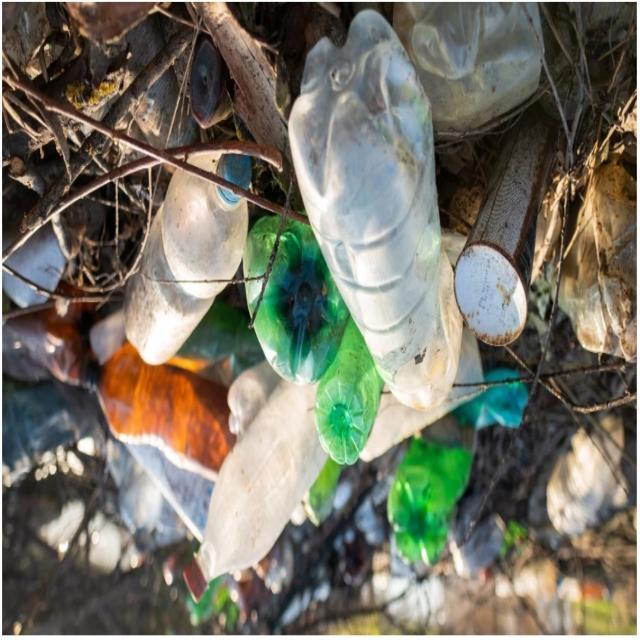Garbage: (3, 4, 636, 634)
Plastic: (190, 35, 232, 128)
Plastic_Bag: (392, 4, 541, 132), (559, 163, 636, 361), (360, 387, 481, 460), (455, 326, 484, 385), (528, 4, 542, 46)
Plastic_bottle: (289, 10, 462, 409), (184, 381, 328, 602), (124, 170, 248, 365), (79, 343, 235, 483), (254, 219, 349, 385), (388, 414, 476, 567), (315, 320, 382, 465), (546, 415, 624, 536), (169, 300, 265, 387), (228, 361, 281, 438), (454, 384, 528, 429), (304, 458, 341, 527), (242, 216, 280, 275), (192, 154, 251, 190), (245, 281, 261, 316), (485, 368, 519, 381)
Tin_box: (454, 104, 559, 345)
